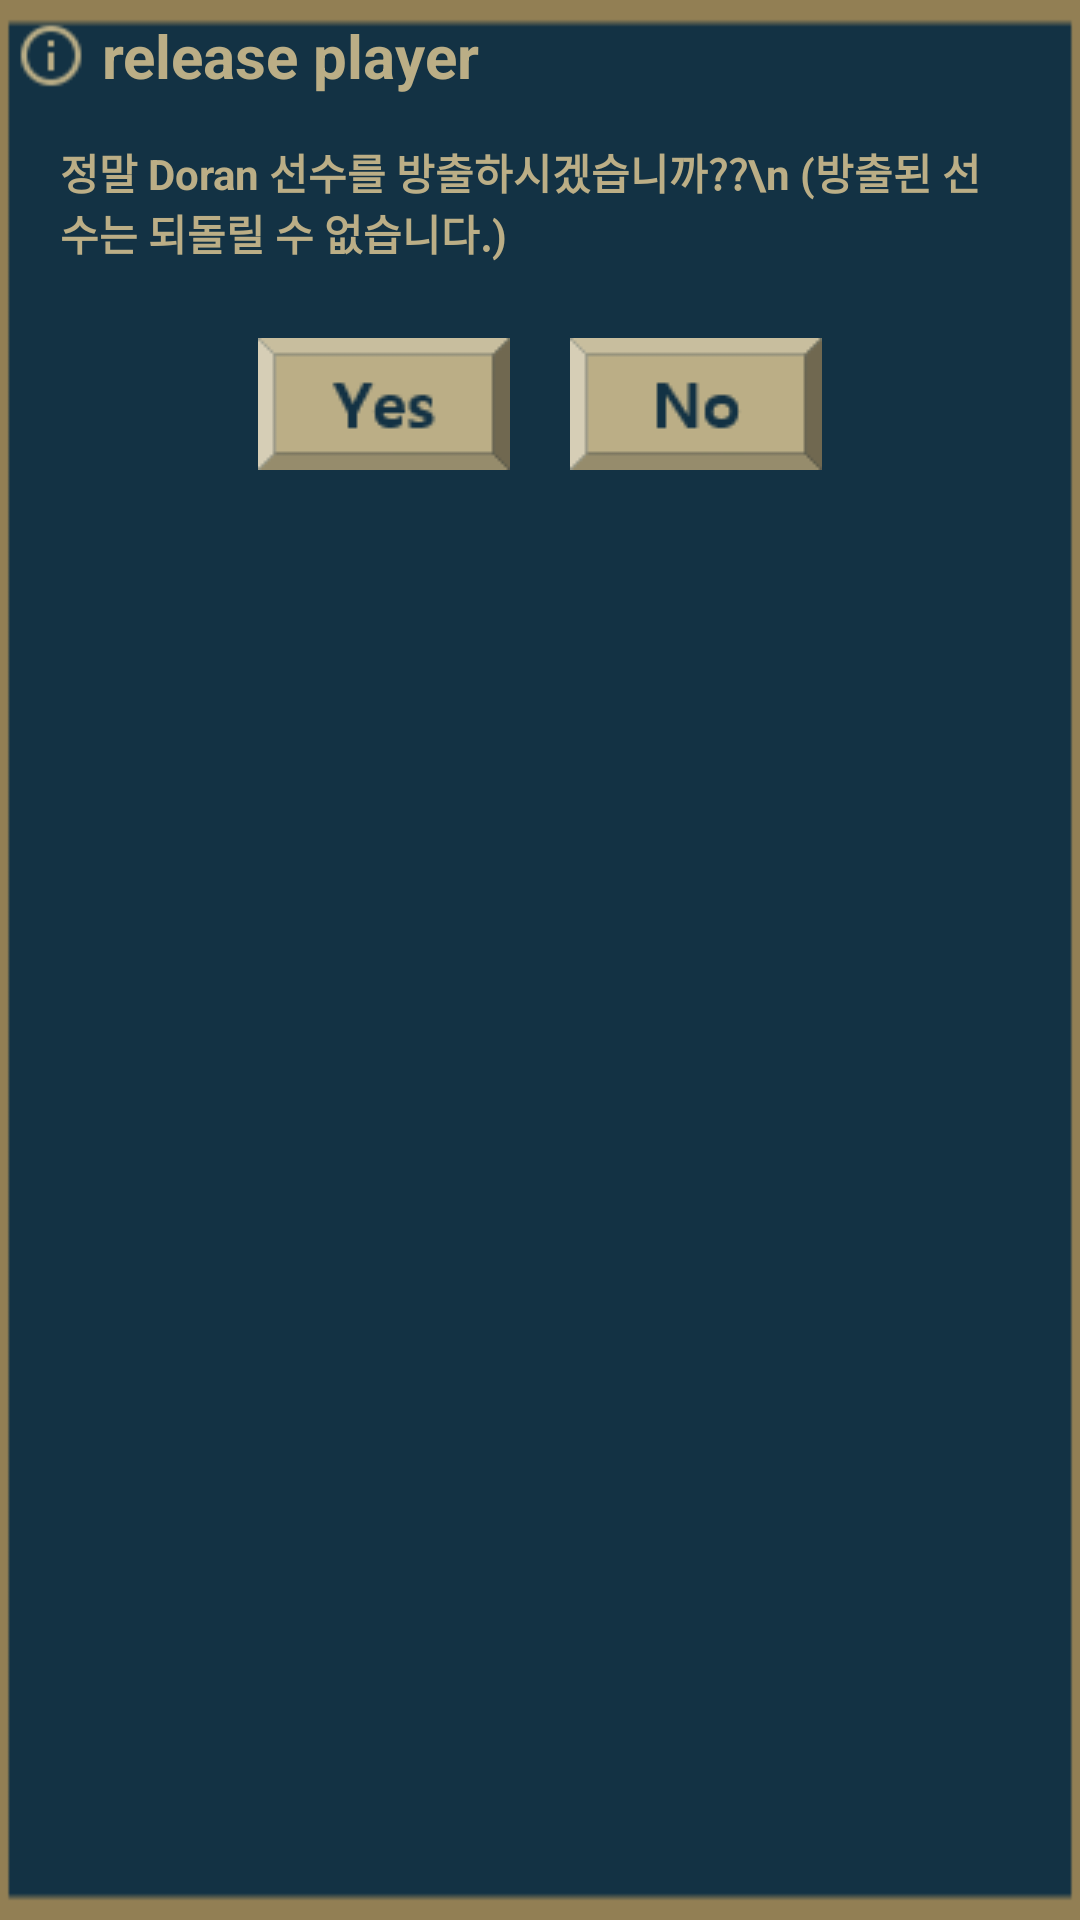

Locate icon controls on the screen. Image size 1080px x 1920px, boxes as (x1, y1, x2, y2).
info: (15, 15, 87, 87)
